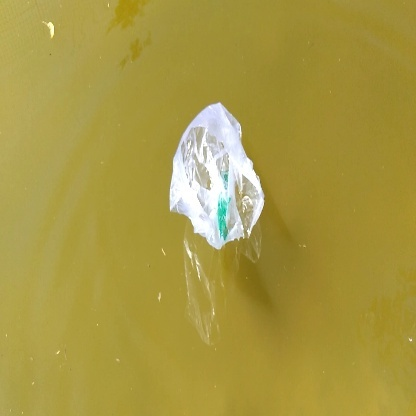plastic-bag: (163, 101, 268, 247)
